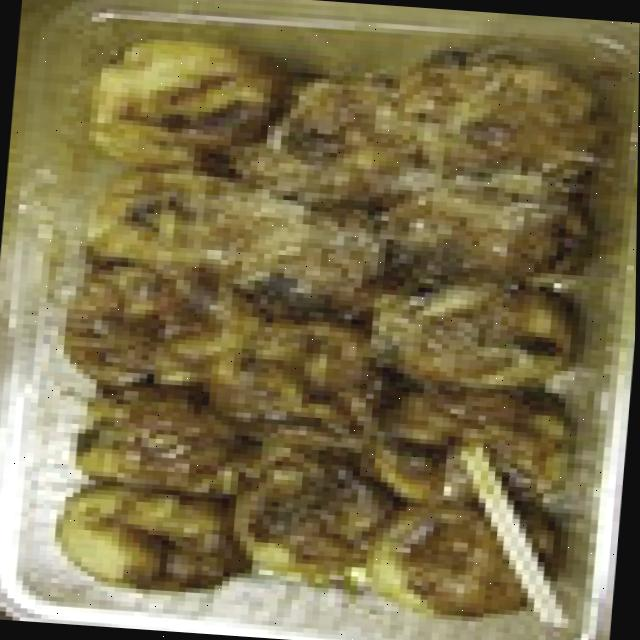炸货点心: (15, 13, 631, 640)
